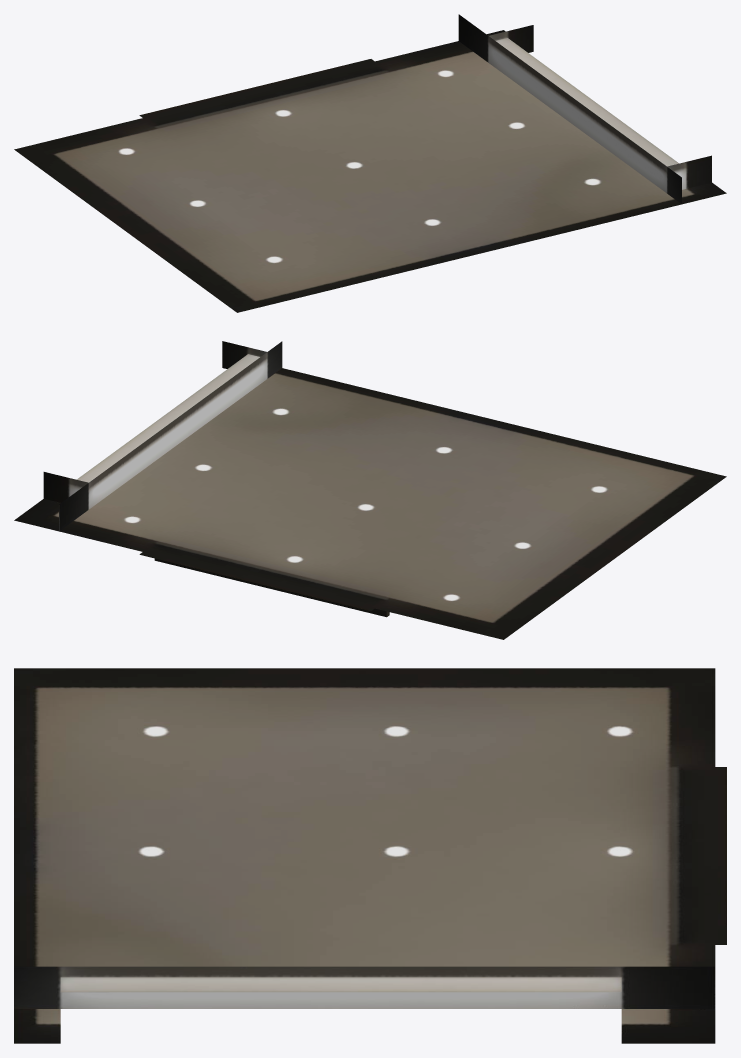
File: 2014_WSJ_JJ_07.FBX
3 views of the same model, one above another, from view 1: azimuth 30°, elevation 25°; view 2: azimuth 150°, elevation 25°; view 3: azimuth 270°, elevation 25° (orthographic). The views are drawn at different scales.
Parts seen in each view (by area): view 1: 2014_WSJ_JJ_07; view 2: 2014_WSJ_JJ_07; view 3: 2014_WSJ_JJ_07.
Part boxes in pixels (x1,y1,x2,y2): 2014_WSJ_JJ_07: [14, 14, 726, 312]; 2014_WSJ_JJ_07: [14, 341, 726, 639]; 2014_WSJ_JJ_07: [14, 668, 726, 1043].
Size of the model in its own units: 3.8 by 0.33 by 3.05.
